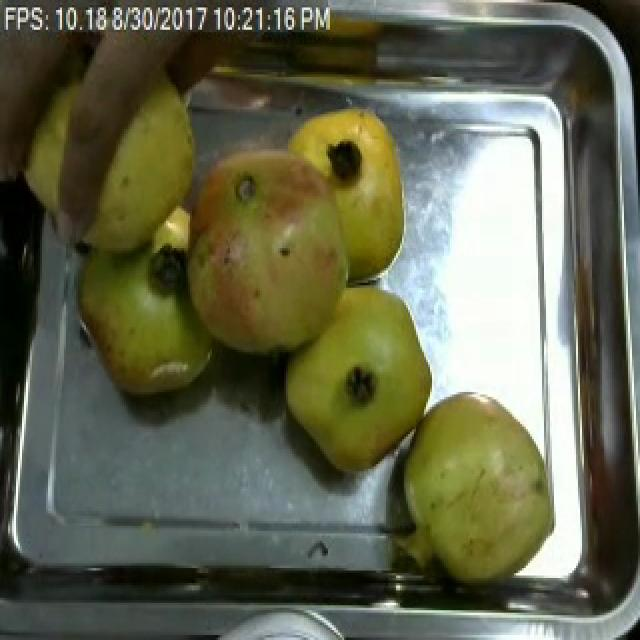fruit: (0, 2, 230, 278), (154, 127, 368, 372), (388, 382, 560, 593), (276, 268, 440, 486)
